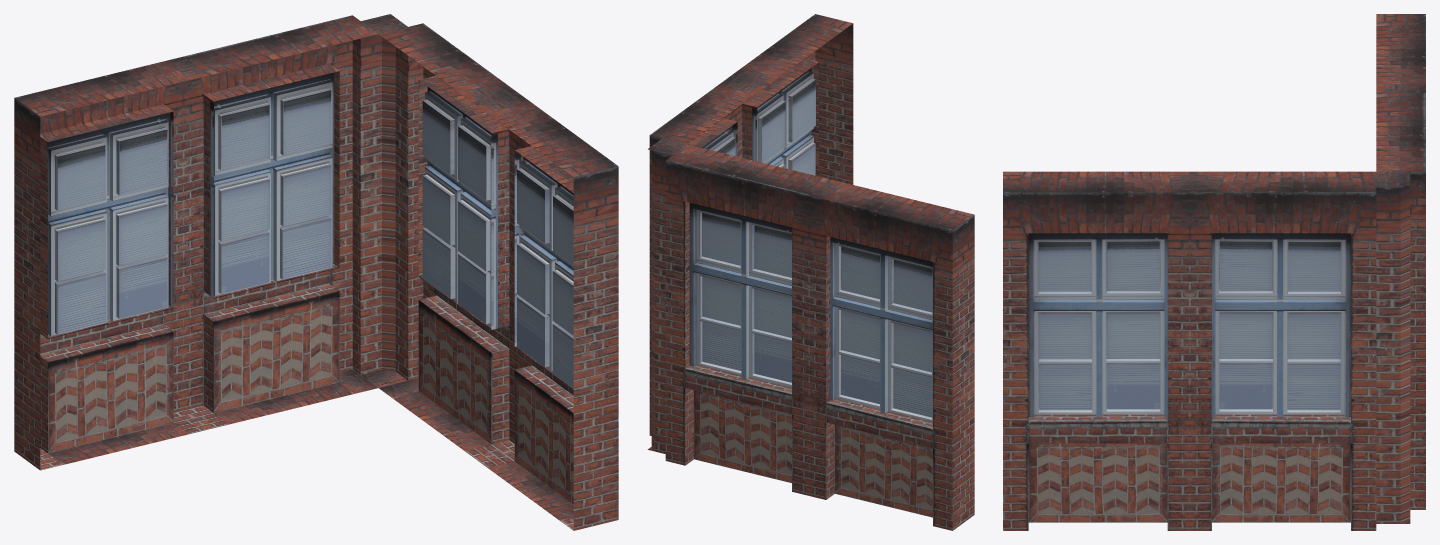
File: corner2.glb
3 renders of one model, left to right at view 1: azimuth 30°, elevation 25°; view 2: azimuth 150°, elevation 25°; view 3: azimuth 270°, elevation 25°, orthographic. The views are drawn at different scales.
Visible parts, largest first — view 1: 04-0-MF_CornerWall; view 2: 04-0-MF_CornerWall; view 3: 04-0-MF_CornerWall.
Part boxes in pixels (<box>): 04-0-MF_CornerWall: <box>14,14,618,530</box>; 04-0-MF_CornerWall: <box>647,14,974,530</box>; 04-0-MF_CornerWall: <box>1003,14,1425,530</box>.
Bounding box in the file's own units: 1.13 × 1 × 1.13.
3 materials, 3 textured.
